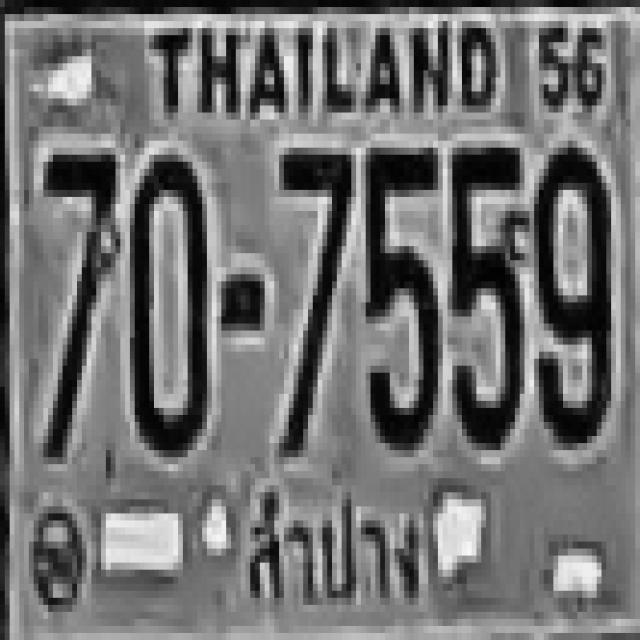0: (128, 148, 205, 450)
5: (361, 141, 438, 443), (448, 141, 520, 443)
7: (41, 148, 113, 450), (279, 148, 351, 450), (43, 148, 111, 401), (43, 148, 111, 352)
9: (530, 144, 606, 440)
Lampang: (238, 477, 427, 611)
